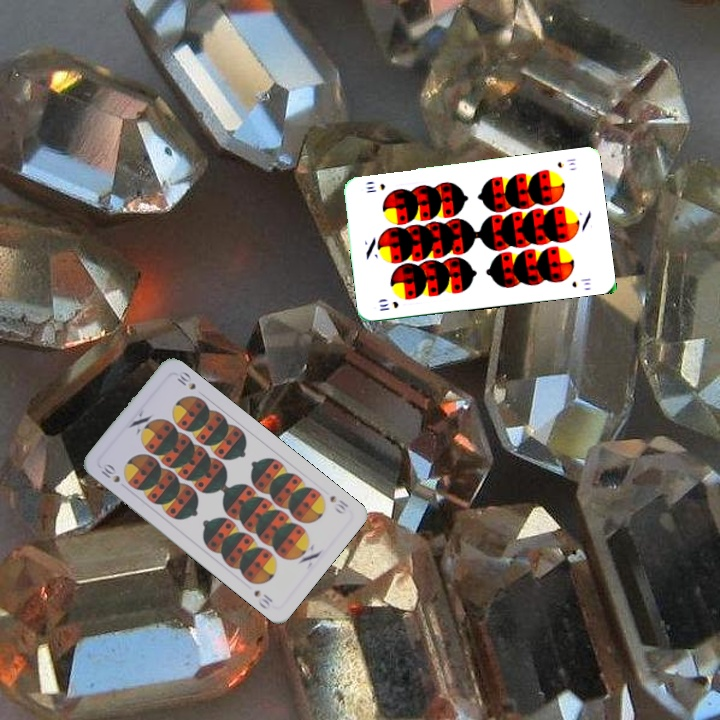S10: (97, 459, 123, 485), (326, 491, 351, 517), (375, 297, 401, 313), (554, 154, 578, 170)
